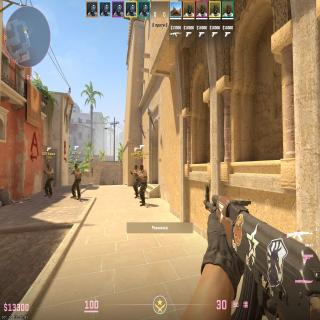T-Body: (71, 163, 82, 200), (44, 163, 54, 198), (139, 164, 147, 207), (133, 164, 140, 198)
T-Head: (74, 163, 78, 168), (134, 165, 138, 169), (140, 165, 143, 170), (47, 164, 50, 168)
